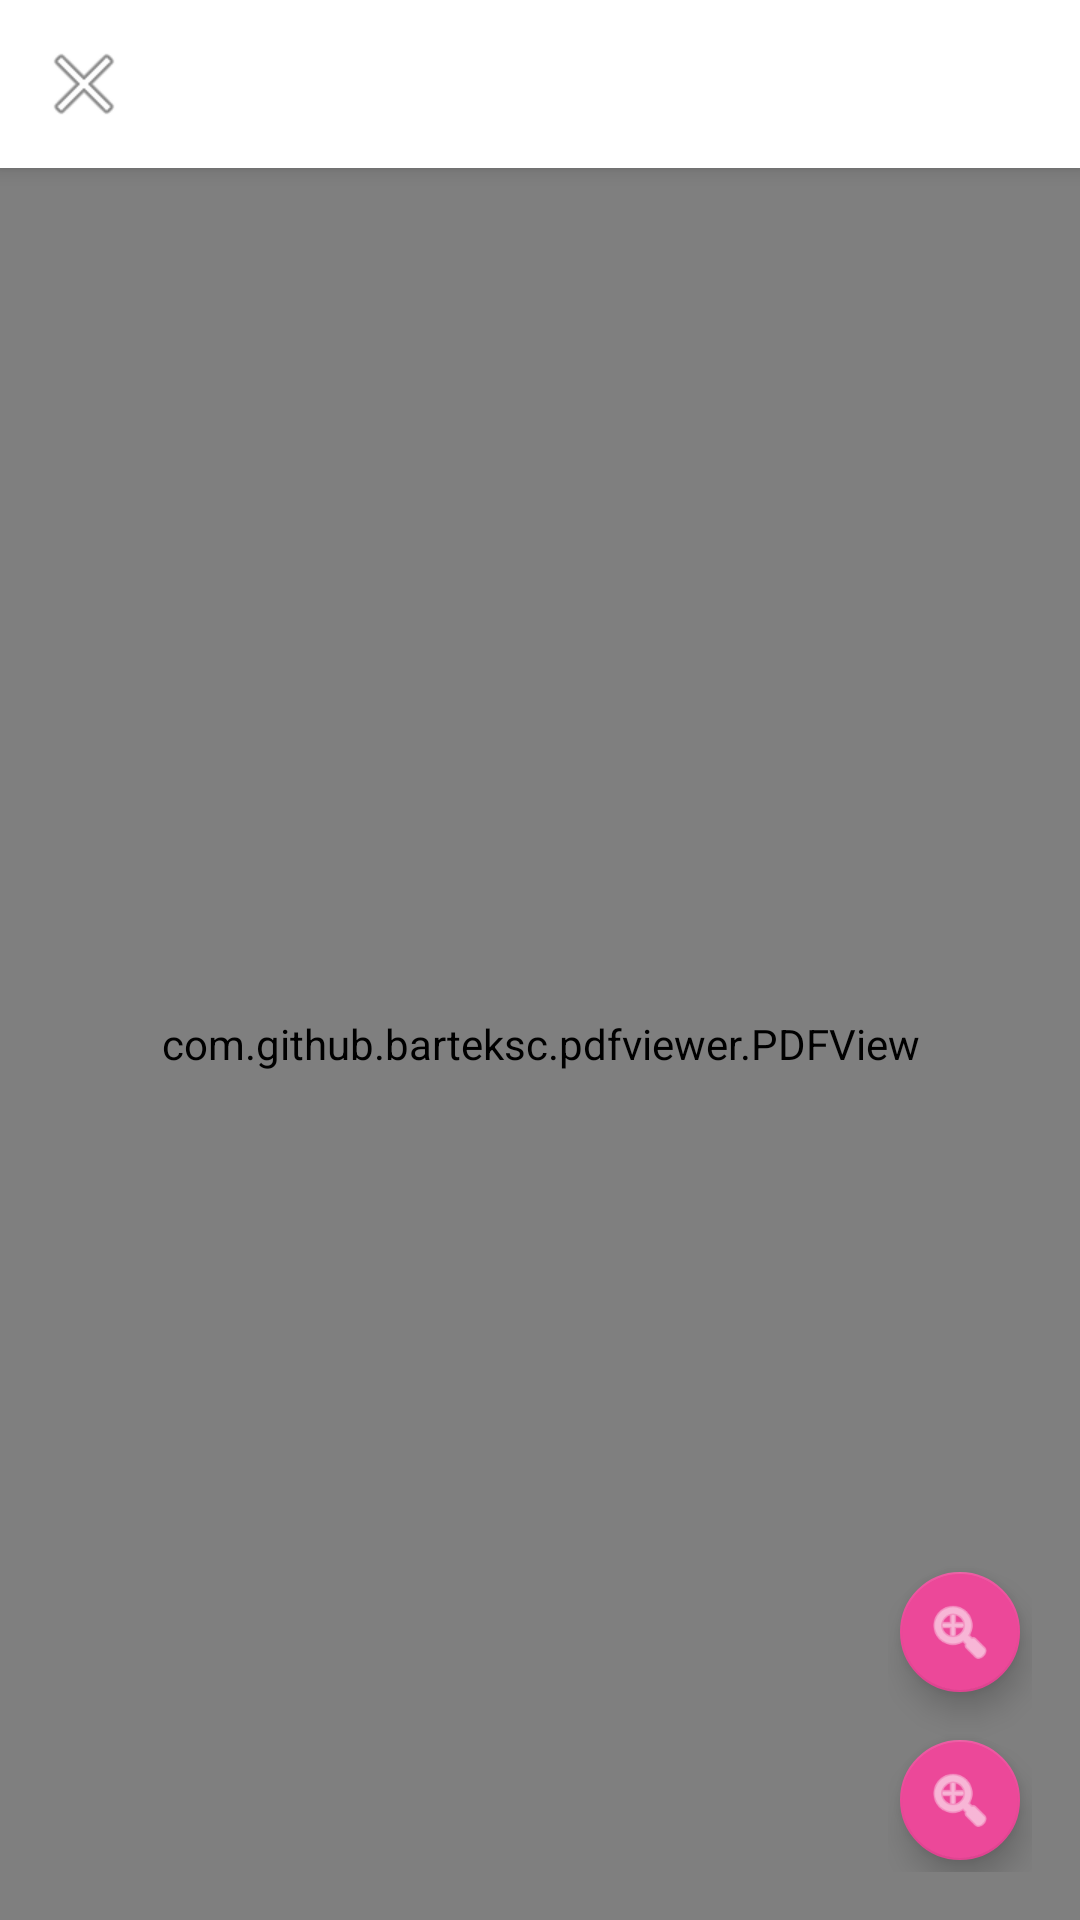

Named icons in this screenshot (1080x1920) and their centers, [x,y]:
Zoom In: [960,1632]
